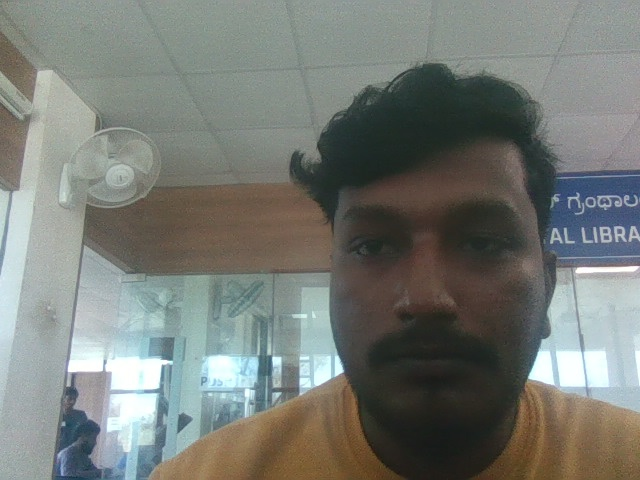real: (290, 37, 590, 462)
